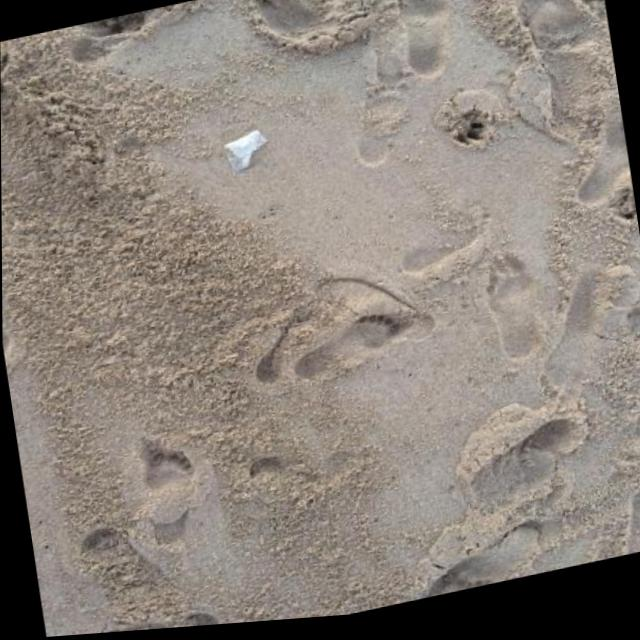plastic: (223, 126, 271, 176)
